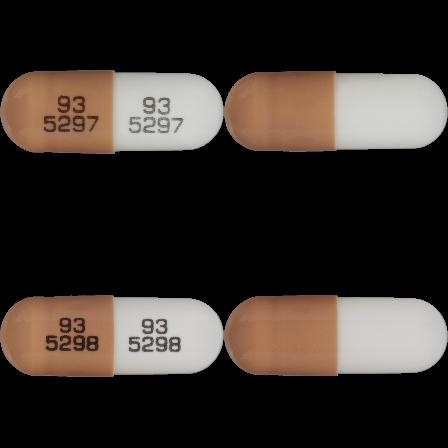0093-5297: (0, 0, 224, 224)
